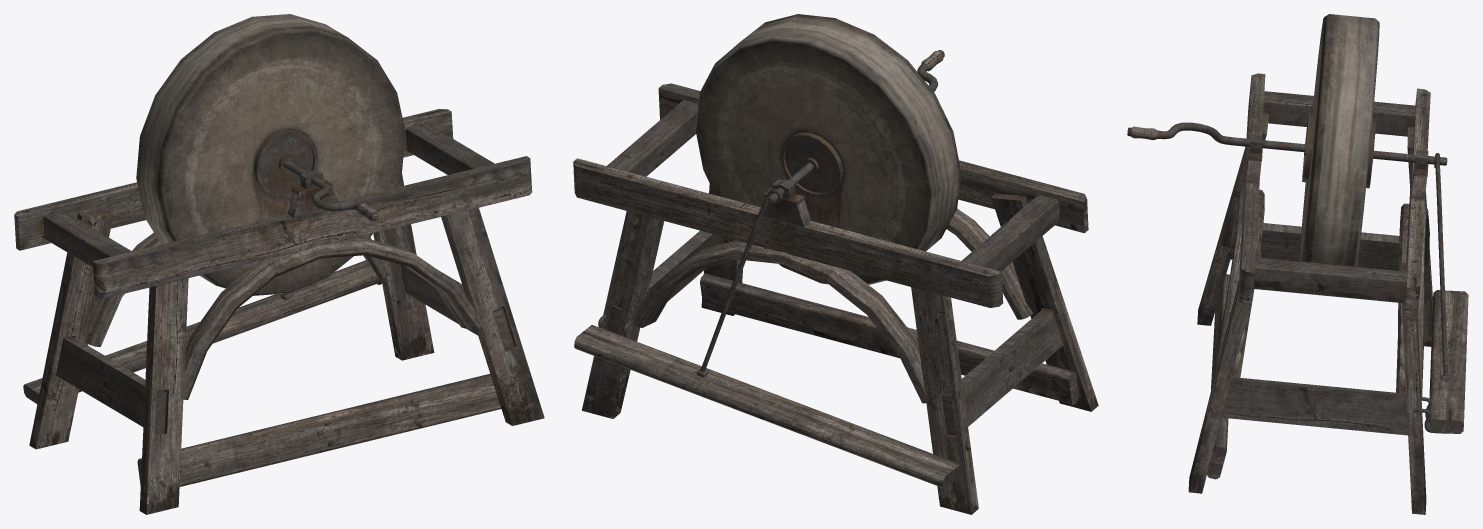
The model's file is Sharpening_Stone.glb.
The picture shows the model from 3 angles, left to right: view 1: azimuth 30°, elevation 25°; view 2: azimuth 150°, elevation 25°; view 3: azimuth 270°, elevation 25°; orthographic projection. The views are drawn at different scales.
Parts seen in each view (by area): view 1: SM_Sharpening_Stone; view 2: SM_Sharpening_Stone; view 3: SM_Sharpening_Stone.
Part boxes in pixels (x1,y1,x2,y2): SM_Sharpening_Stone: (14, 14, 544, 514); SM_Sharpening_Stone: (573, 14, 1098, 514); SM_Sharpening_Stone: (1127, 14, 1468, 514).
Bounding box in the file's own units: 1.62 × 1.46 × 1.14.
Materials: 1 (1 with a texture image).
